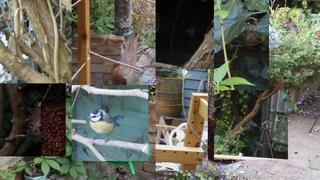blue tit: (87, 109, 124, 145)
mouse: (26, 107, 42, 137)
